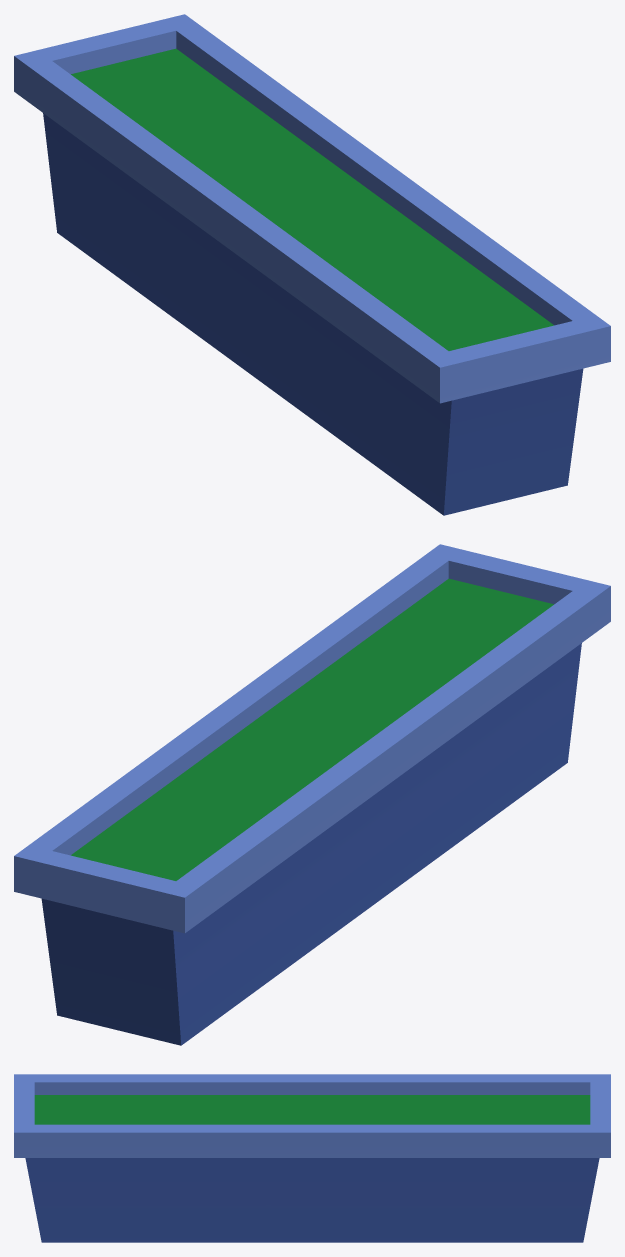
Rendered from FlowerPot_5_1_E.fbx.
3 views of the same model, one above another, from view 1: azimuth 30°, elevation 25°; view 2: azimuth 150°, elevation 25°; view 3: azimuth 270°, elevation 25° (orthographic). The views are drawn at different scales.
Parts seen in each view (by area): view 1: FlowerPot_5_1_E; view 2: FlowerPot_5_1_E; view 3: FlowerPot_5_1_E.
Part boxes in pixels (x1=…): FlowerPot_5_1_E: x1=14, y1=14, x2=610, y2=515; FlowerPot_5_1_E: x1=14, y1=544, x2=610, y2=1045; FlowerPot_5_1_E: x1=14, y1=1074, x2=610, y2=1242.
Size of the model in its own units: 32.46 by 30.52 by 140.
